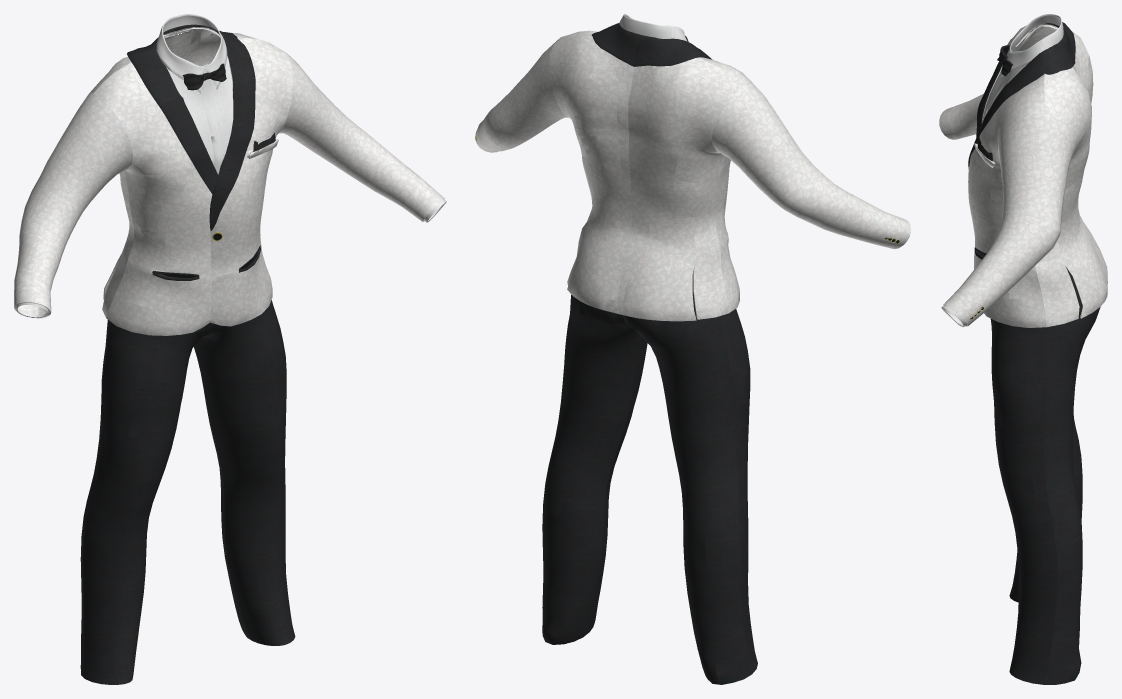
Rendered from toigo-suit-with-dinner-jacket.glb.
3 renders of one model, left to right at view 1: azimuth 30°, elevation 25°; view 2: azimuth 150°, elevation 25°; view 3: azimuth 270°, elevation 25°, orthographic. The views are drawn at different scales.
Visible parts, largest first — view 1: suit with dinner jacket; view 2: suit with dinner jacket; view 3: suit with dinner jacket.
Part boxes in pixels (bbox=[...]): suit with dinner jacket: bbox=[14, 14, 446, 684]; suit with dinner jacket: bbox=[475, 14, 910, 684]; suit with dinner jacket: bbox=[939, 14, 1107, 684].
Bounding box in the file's own units: 104 × 146 × 36.14.
1 material, 1 textured.
